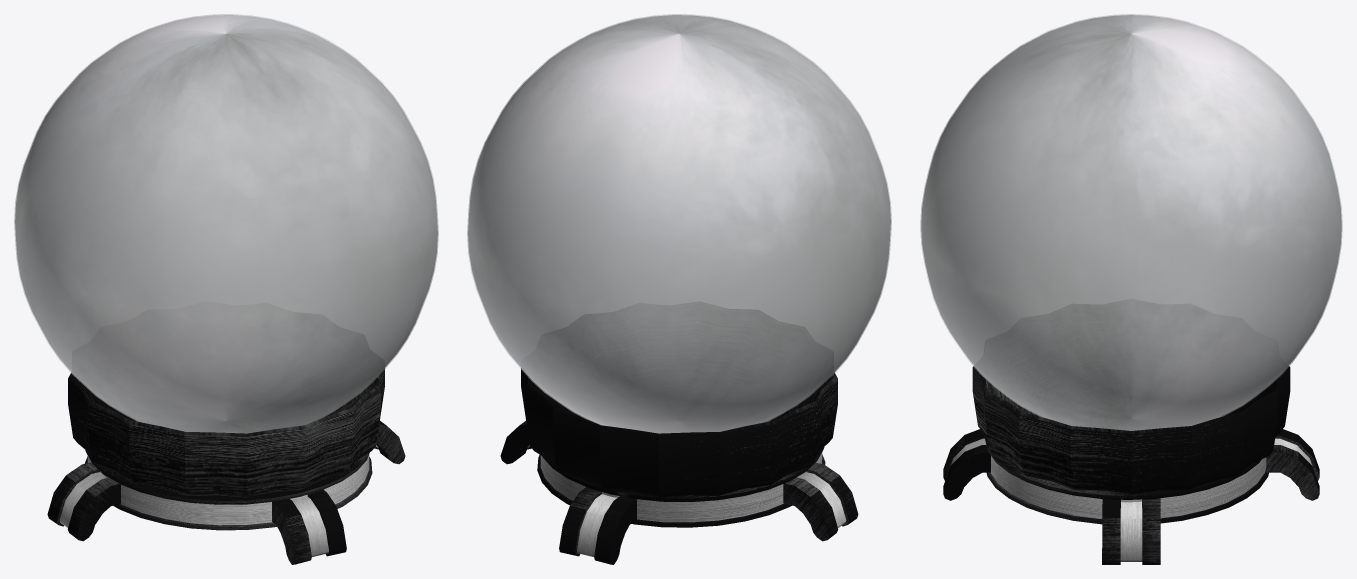
The picture shows the model from 3 angles, left to right: view 1: azimuth 30°, elevation 25°; view 2: azimuth 150°, elevation 25°; view 3: azimuth 270°, elevation 25°; orthographic projection.
Visible parts, largest first — view 1: Ball, Mist, Stand; view 2: Ball, Mist, Stand; view 3: Ball, Mist, Stand.
Boxes of the visible parts, <box> form: Ball: <box>14,14,438,433</box>; Mist: <box>15,15,437,433</box>; Stand: <box>47,368,405,564</box>; Ball: <box>467,14,891,433</box>; Mist: <box>468,15,890,433</box>; Stand: <box>500,368,858,564</box>; Ball: <box>920,14,1342,430</box>; Mist: <box>921,15,1341,430</box>; Stand: <box>943,366,1319,564</box>.
Size of the model in its own units: 136 by 162 by 136.
4 materials, 3 textured.
